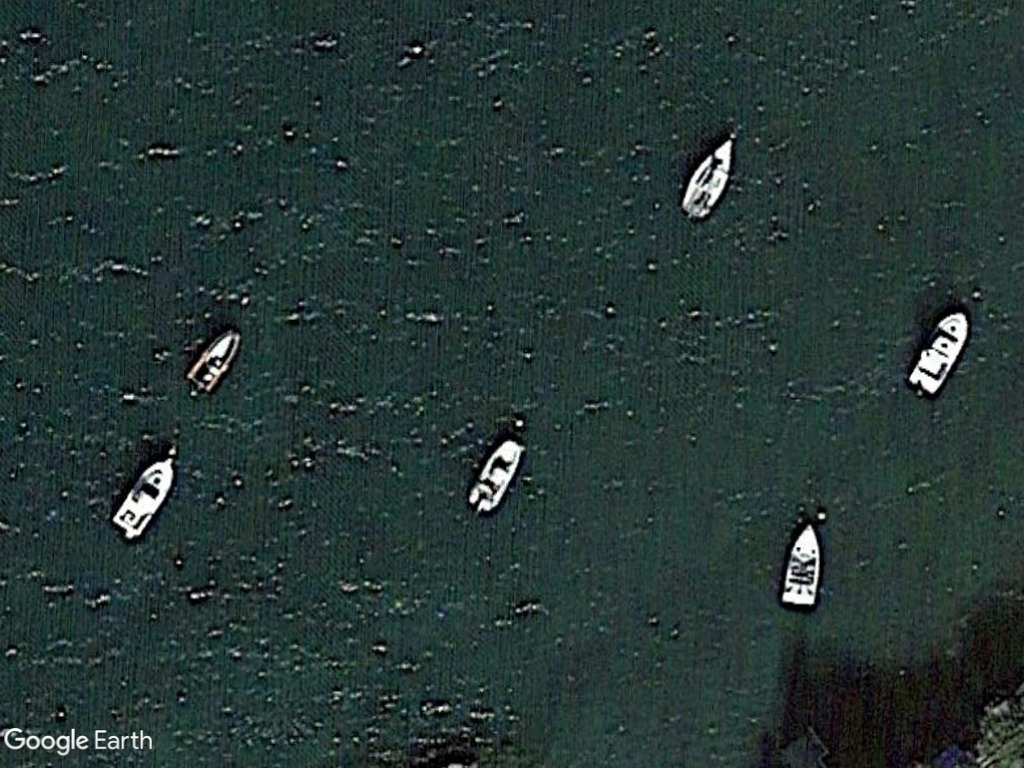boat: (905, 307, 971, 399), (110, 454, 174, 540), (677, 133, 737, 222), (464, 434, 525, 517), (182, 325, 243, 397), (779, 521, 826, 609)
